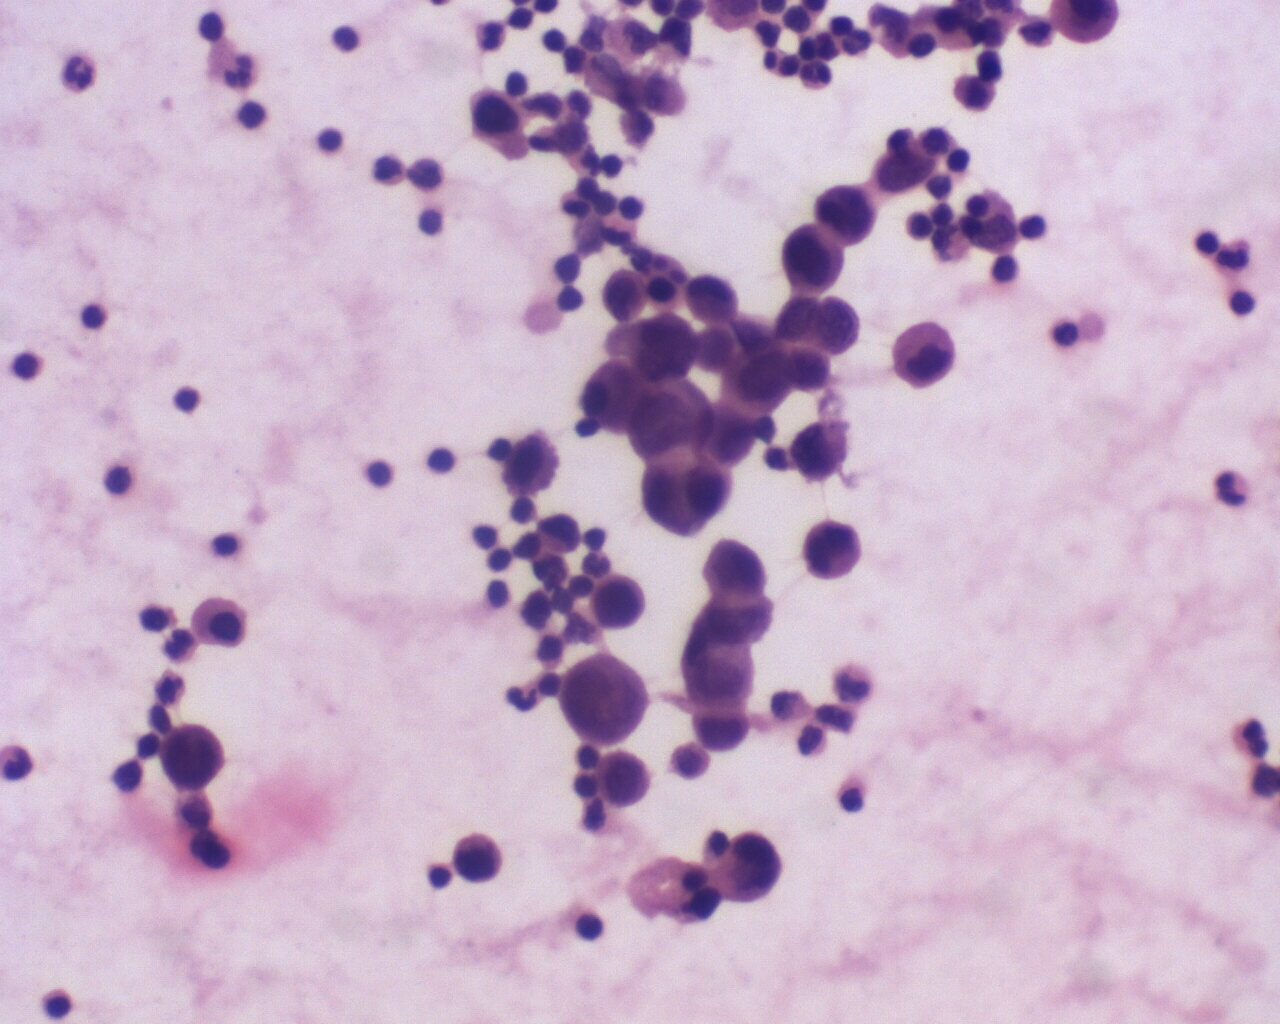ab: (633, 443, 736, 540), (558, 650, 649, 749), (673, 635, 759, 713), (887, 319, 963, 395), (725, 338, 797, 417), (788, 412, 859, 492), (629, 308, 703, 383), (716, 828, 789, 903), (773, 224, 845, 296), (160, 720, 227, 793), (814, 176, 879, 250), (703, 536, 770, 604), (801, 517, 866, 586), (590, 747, 655, 808), (813, 292, 869, 358), (450, 825, 507, 891), (590, 569, 647, 634)
lymph: (1209, 465, 1254, 508), (96, 461, 139, 499), (363, 457, 400, 495), (572, 908, 611, 945), (167, 381, 204, 417), (78, 301, 113, 336), (316, 122, 348, 156)
meso: (190, 592, 249, 653)
neutro: (56, 52, 98, 95), (1, 739, 38, 785)
